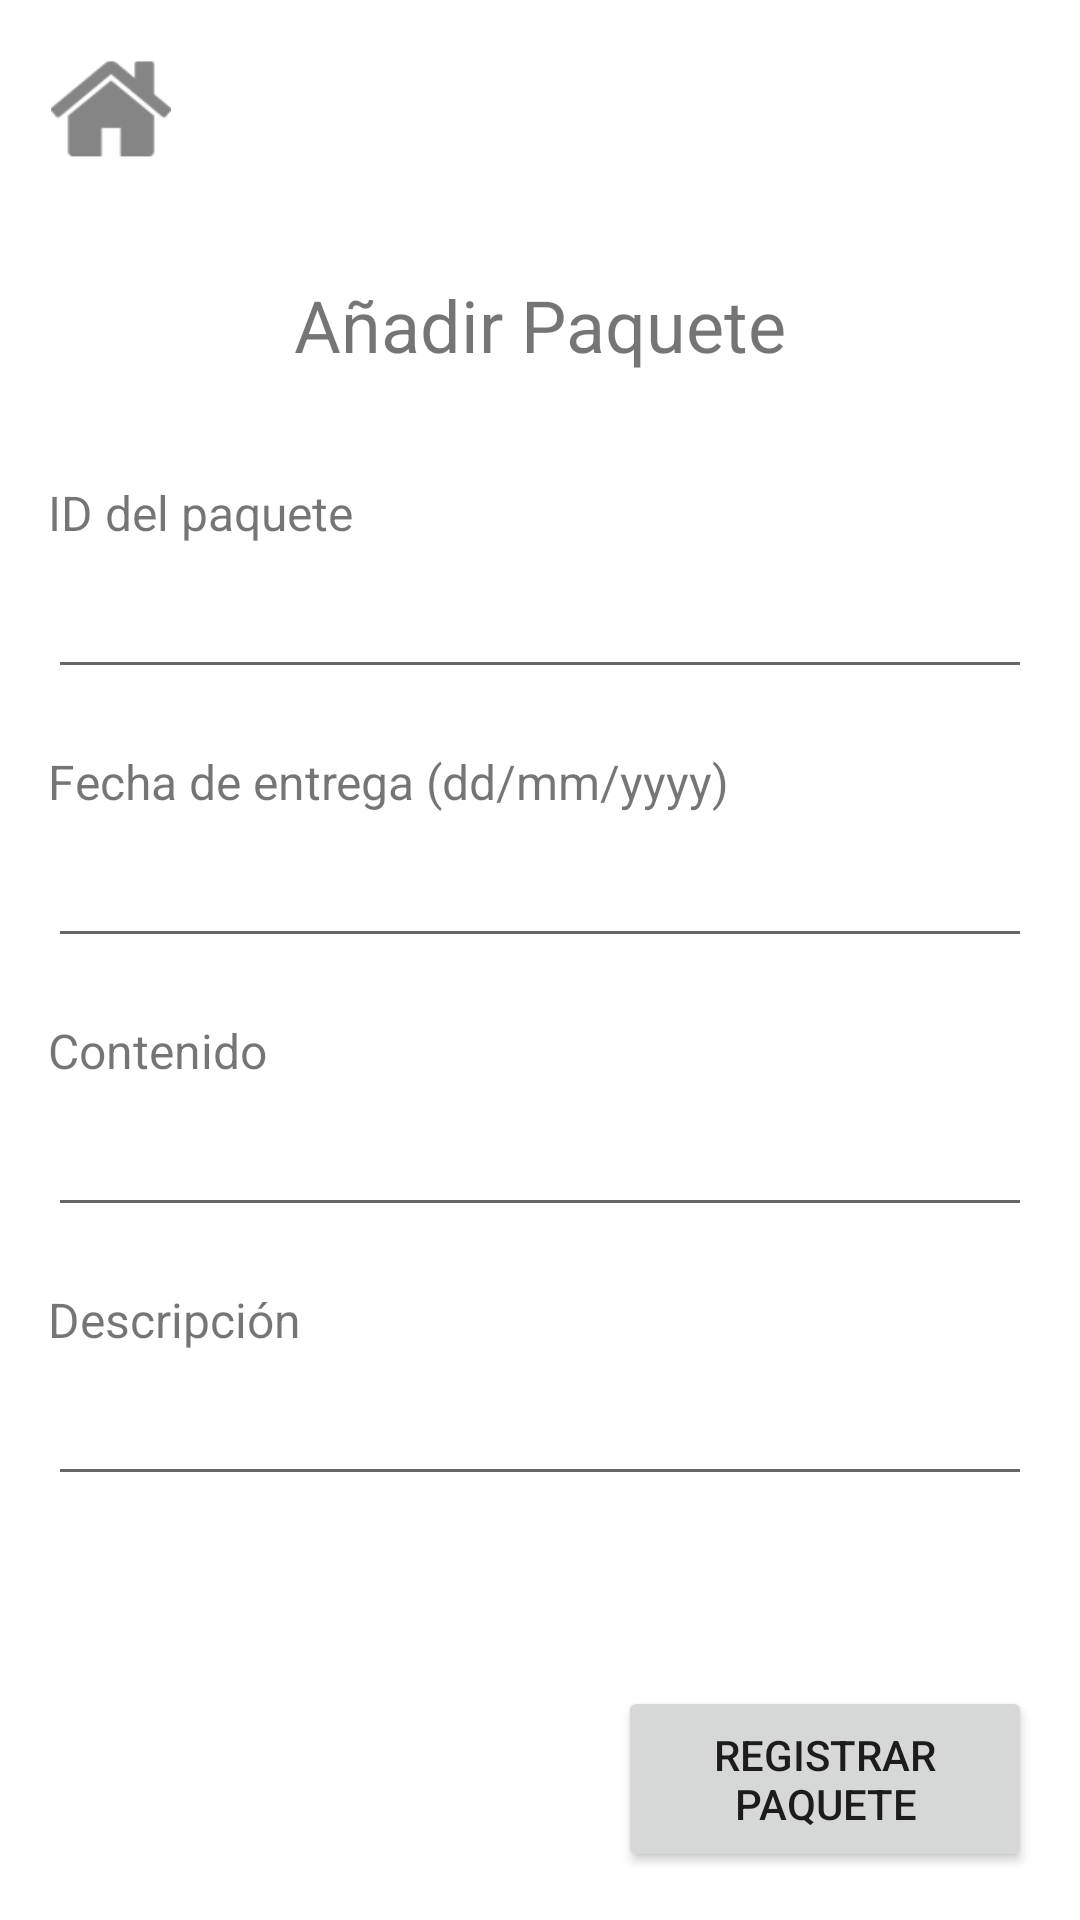

Screen size 1080*1920. Icon name, then its center in pixels as [x,y]:
home: [111,109]
